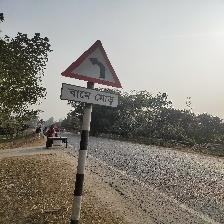Left-Turn: (59, 36, 122, 111)
